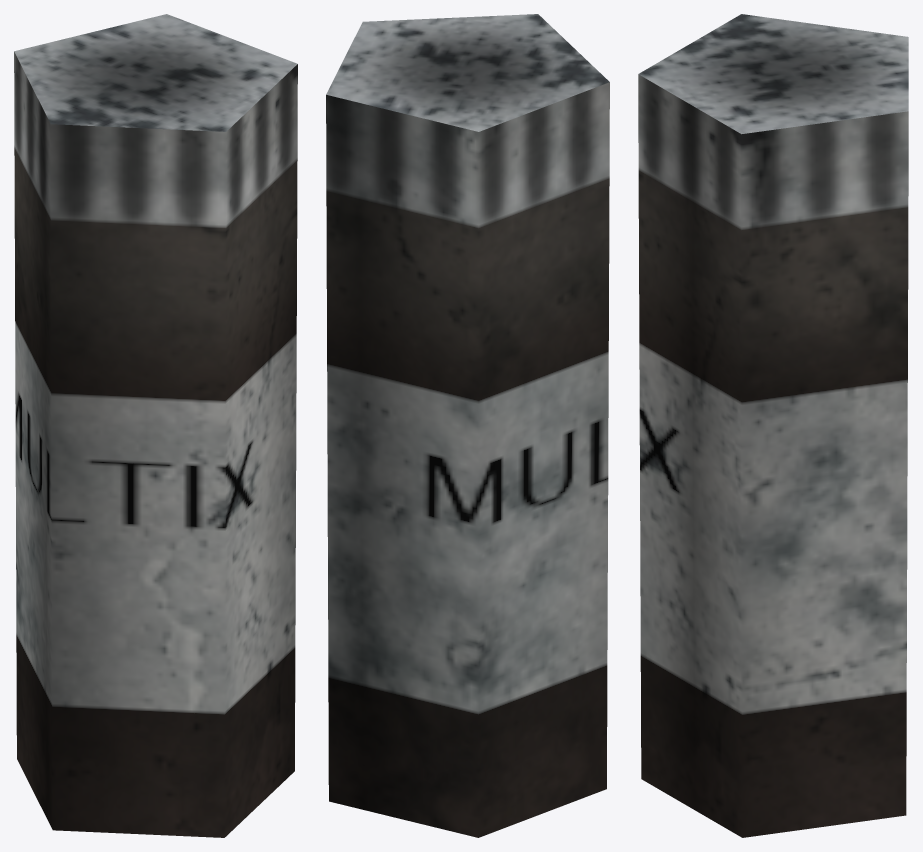
File: medicine_tiny_A.fbx
3 views of the same model, side by side, from view 1: azimuth 30°, elevation 25°; view 2: azimuth 150°, elevation 25°; view 3: azimuth 270°, elevation 25° (orthographic).
Parts seen in each view (by area): view 1: medicine_tiny_A; view 2: medicine_tiny_A; view 3: medicine_tiny_A.
Boxes of the visible parts, bbox=[...] form: medicine_tiny_A: bbox=[14, 14, 297, 837]; medicine_tiny_A: bbox=[326, 14, 609, 837]; medicine_tiny_A: bbox=[638, 14, 908, 837].
Bounding box in the file's own units: 3.84 × 10.49 × 3.65.
